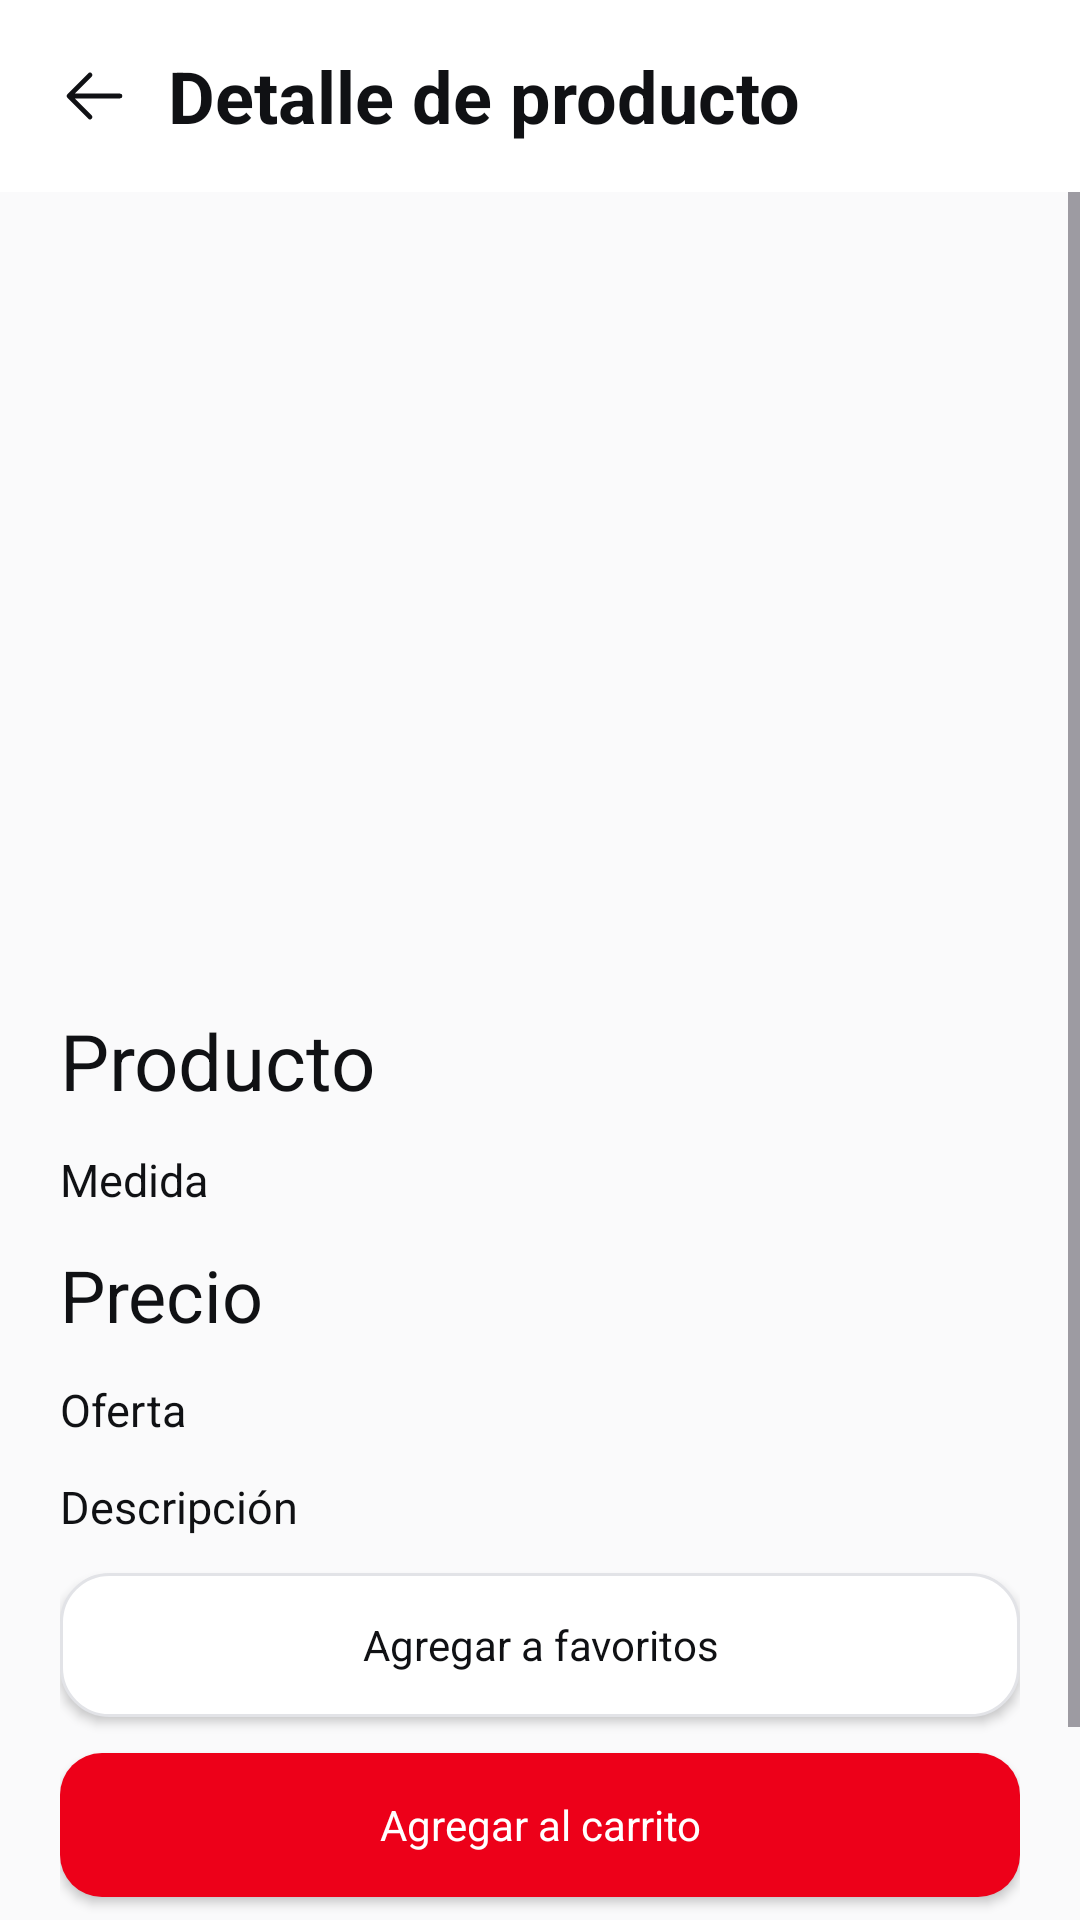

Named icons in this screenshot (1080*1920) and their centers, point (x, y):
Volver: point (94, 96)
